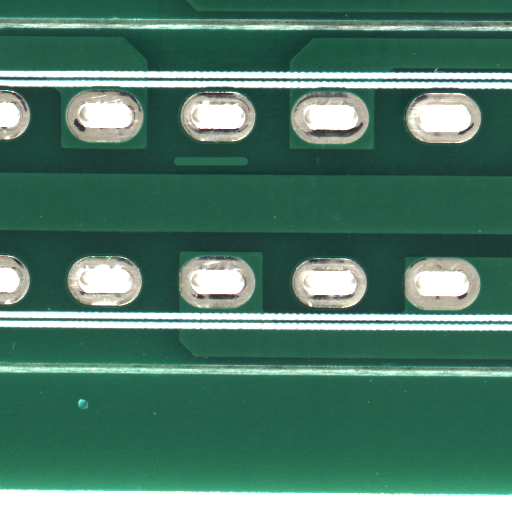Spurious_copper: (210, 160, 287, 174)
